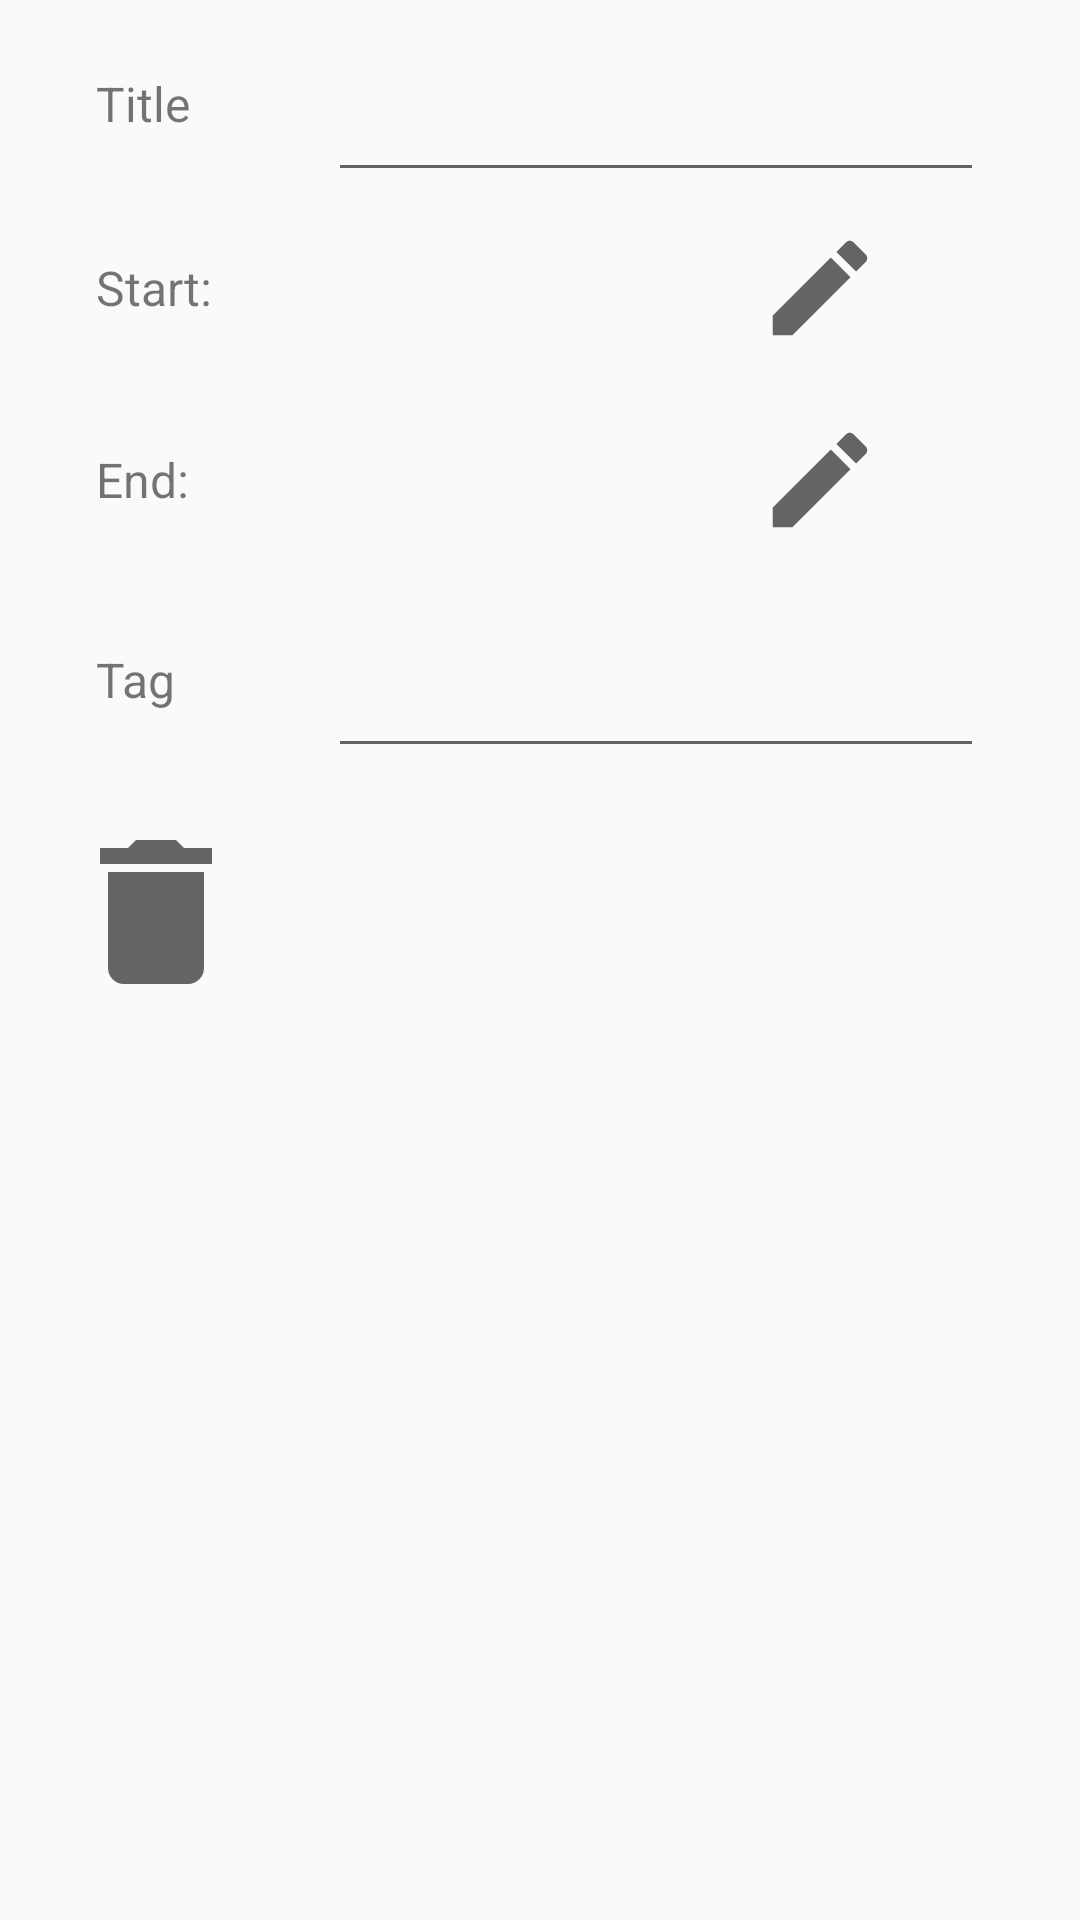

Screen size 1080*1920. Icon name, then its box in pixels as (x1, y1, x2, y2):
edit: (772, 240, 868, 336), (772, 432, 868, 528)
